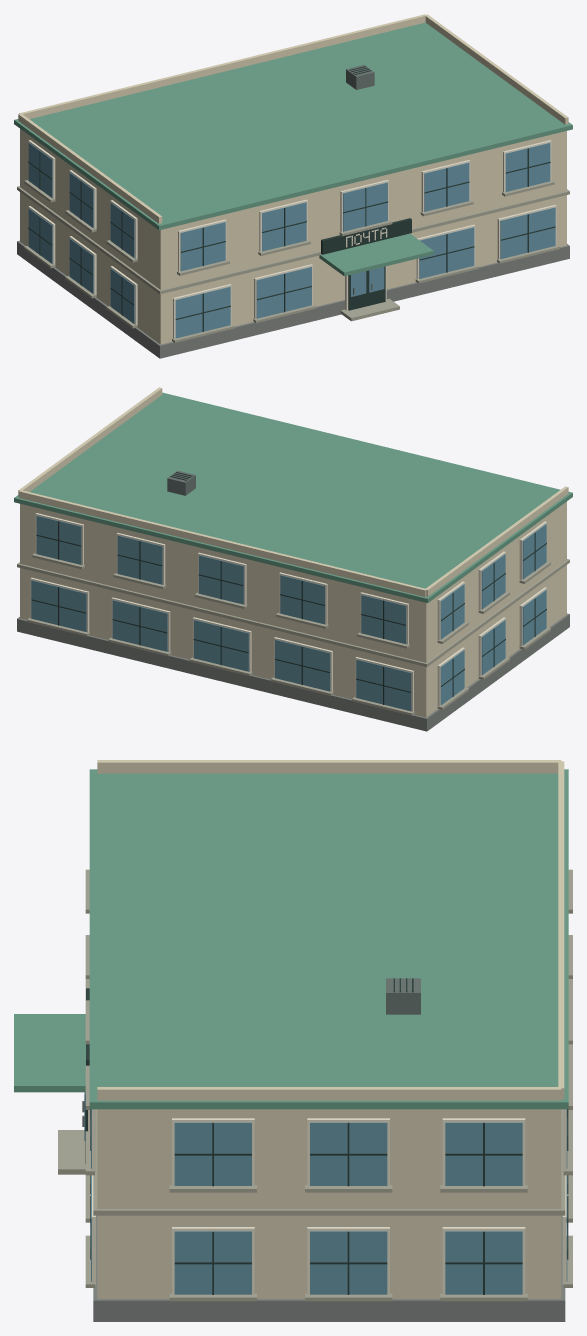
Rendered from PostOffice.obj.
The picture shows the model from 3 angles, top to bottom: view 1: azimuth 30°, elevation 25°; view 2: azimuth 150°, elevation 25°; view 3: azimuth 270°, elevation 25°; orthographic projection. The views are drawn at different scales.
Visible parts, largest first — view 1: PostOffice; view 2: PostOffice; view 3: PostOffice.
Boxes of the visible parts, <box> form: PostOffice: <box>14,14,572,358</box>; PostOffice: <box>14,387,572,731</box>; PostOffice: <box>14,760,572,1321</box>.
Bounding box in the file's own units: 20.6 × 6.97 × 14.45.
1 material, 1 textured.
